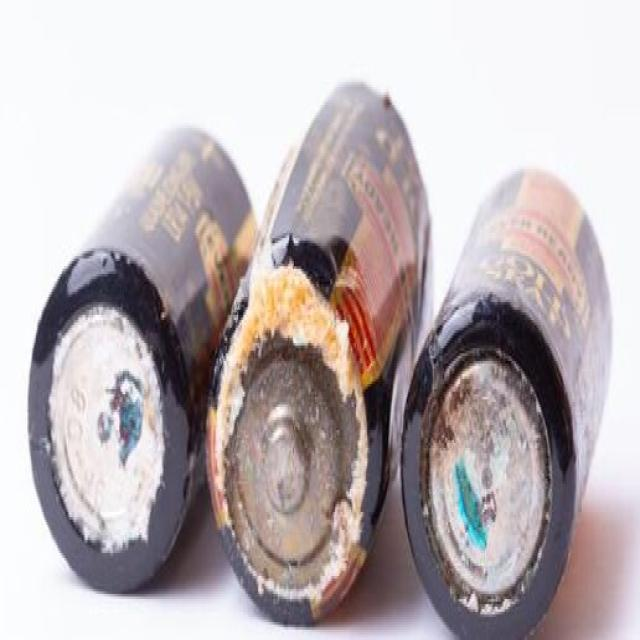electronic: (20, 97, 252, 625), (409, 71, 597, 640), (230, 59, 399, 633)
